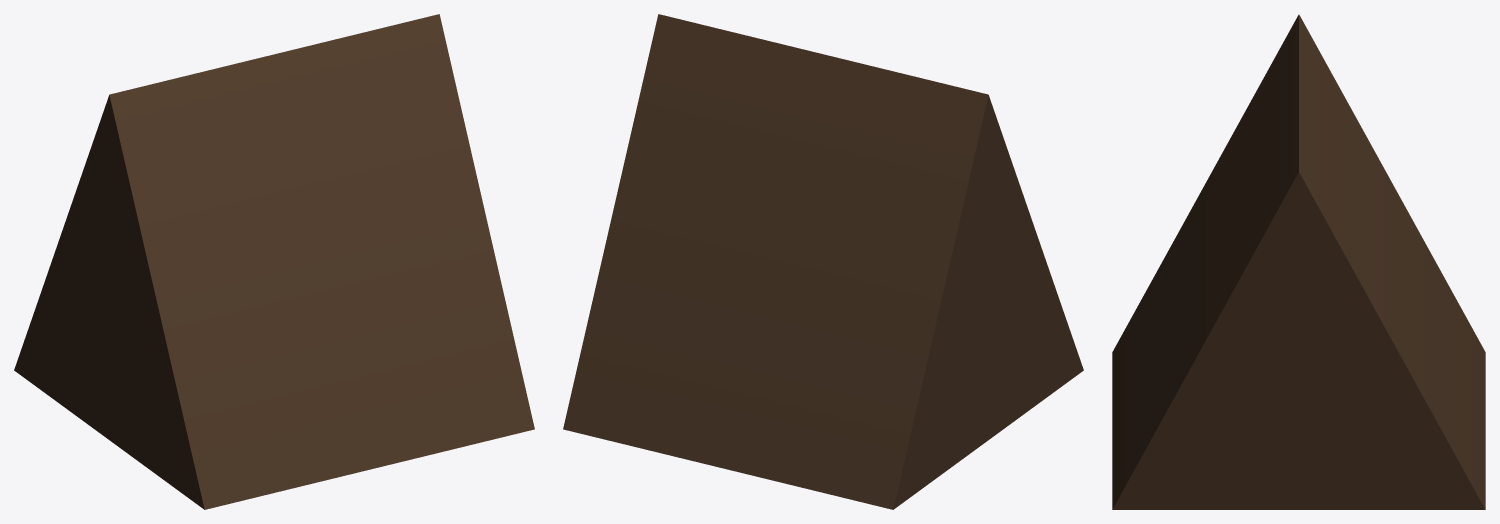
Rendered from Proxy_Gable_Wood.gltf.
3 views of the same model, side by side, from view 1: azimuth 30°, elevation 25°; view 2: azimuth 150°, elevation 25°; view 3: azimuth 270°, elevation 25° (orthographic). The views are drawn at different scales.
Parts seen in each view (by area): view 1: Gable_Wood; view 2: Gable_Wood; view 3: Gable_Wood.
Part boxes in pixels (x1=…): Gable_Wood: x1=14, y1=14, x2=534, y2=509; Gable_Wood: x1=563, y1=14, x2=1083, y2=509; Gable_Wood: x1=1112, y1=14, x2=1485, y2=509.
Size of the model in its own units: 1 by 1 by 1.
